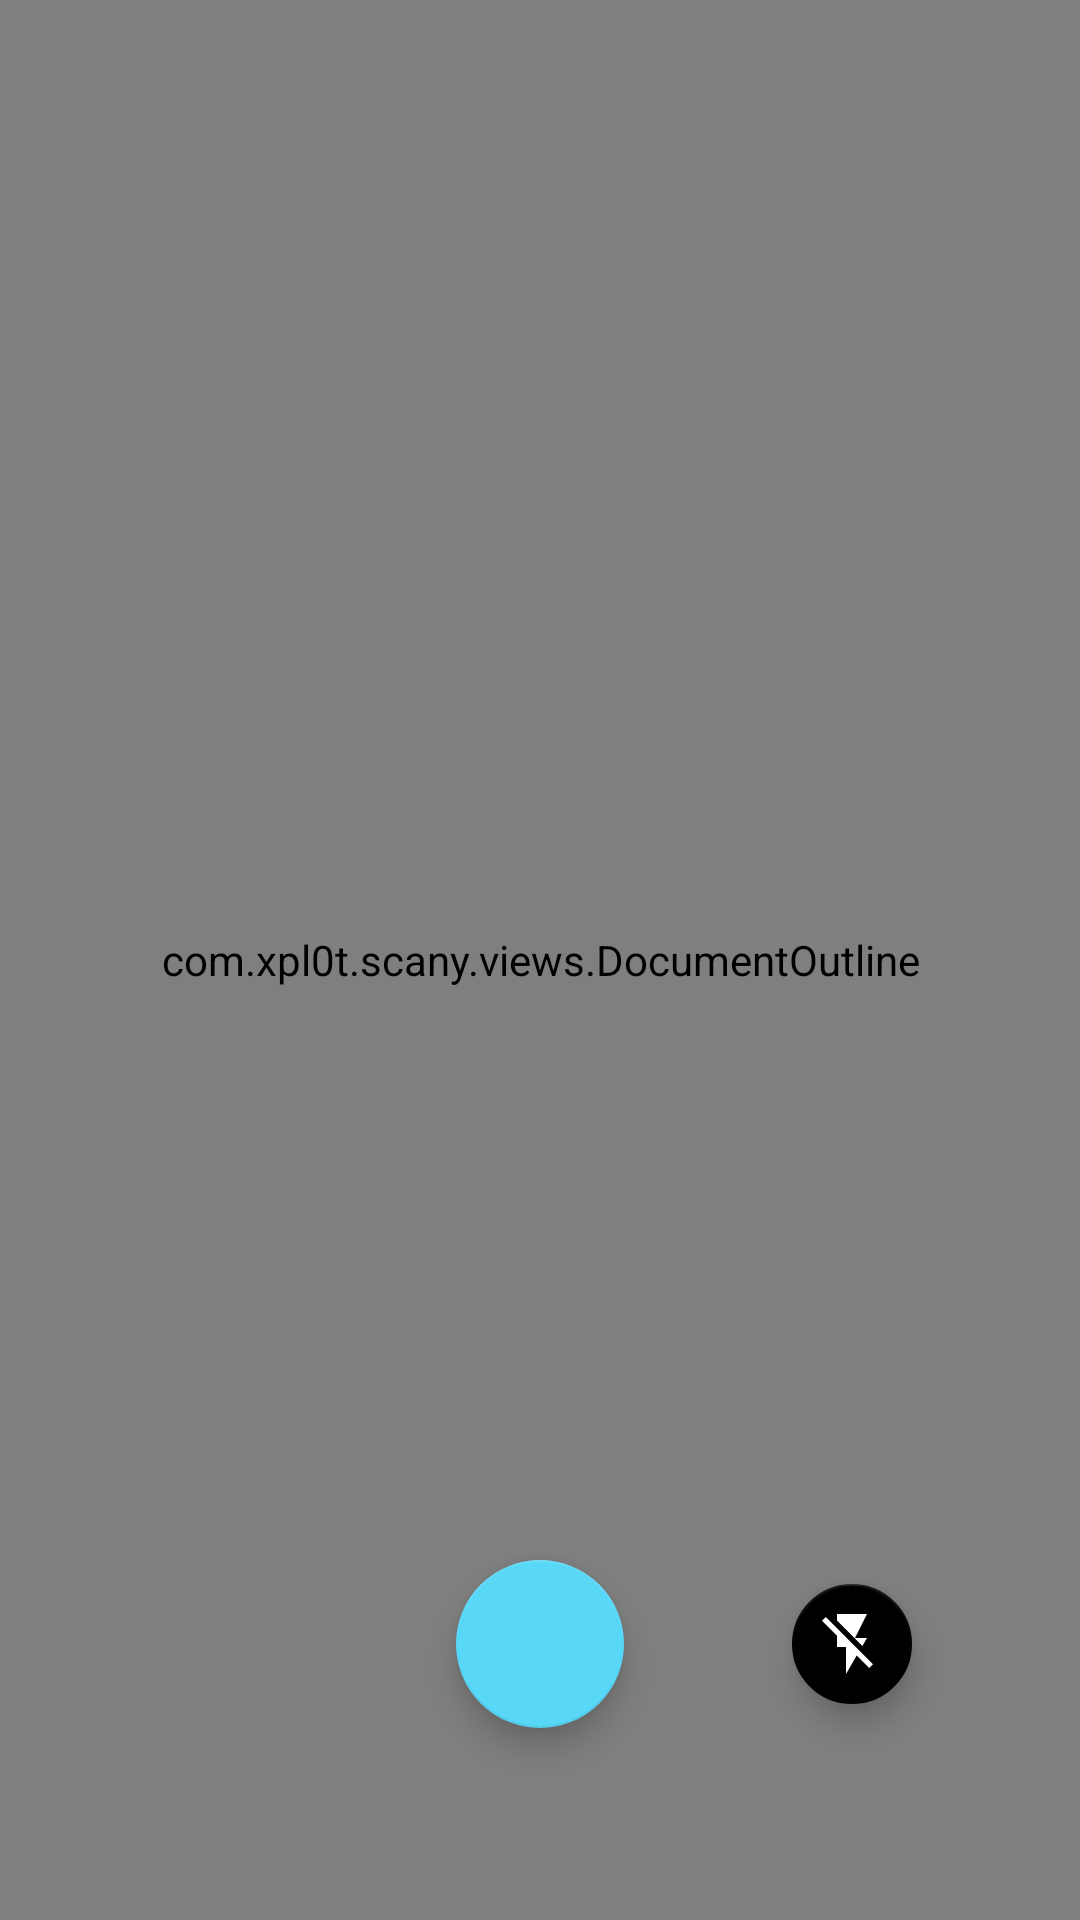

Icon click points for this 1080px x 1920px phone screenshot, format [x,y]:
flash off: [852,1644]
